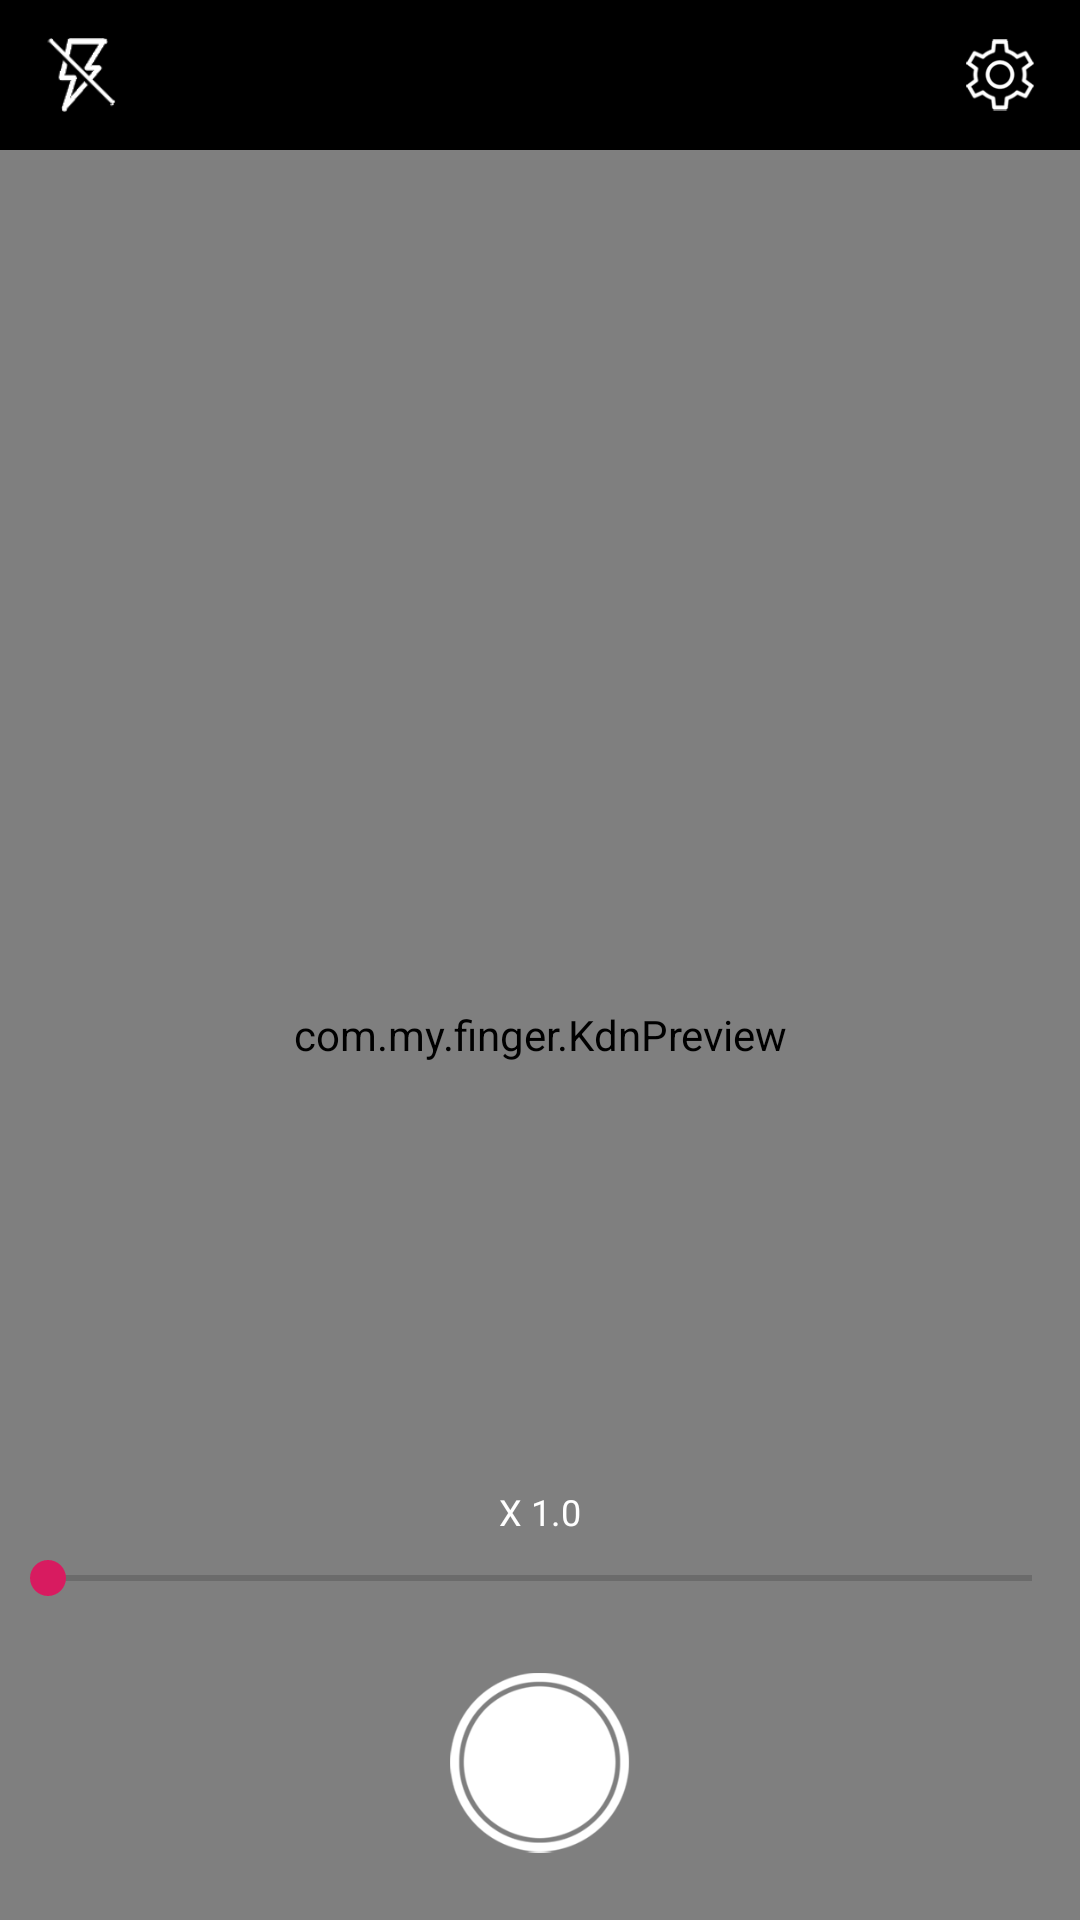

Named icons in this screenshot (1080px×1920px) and their centers, [x,y]:
cam shoot: [539,1763]
flash off: [81,75]
setting: [1000,75]
